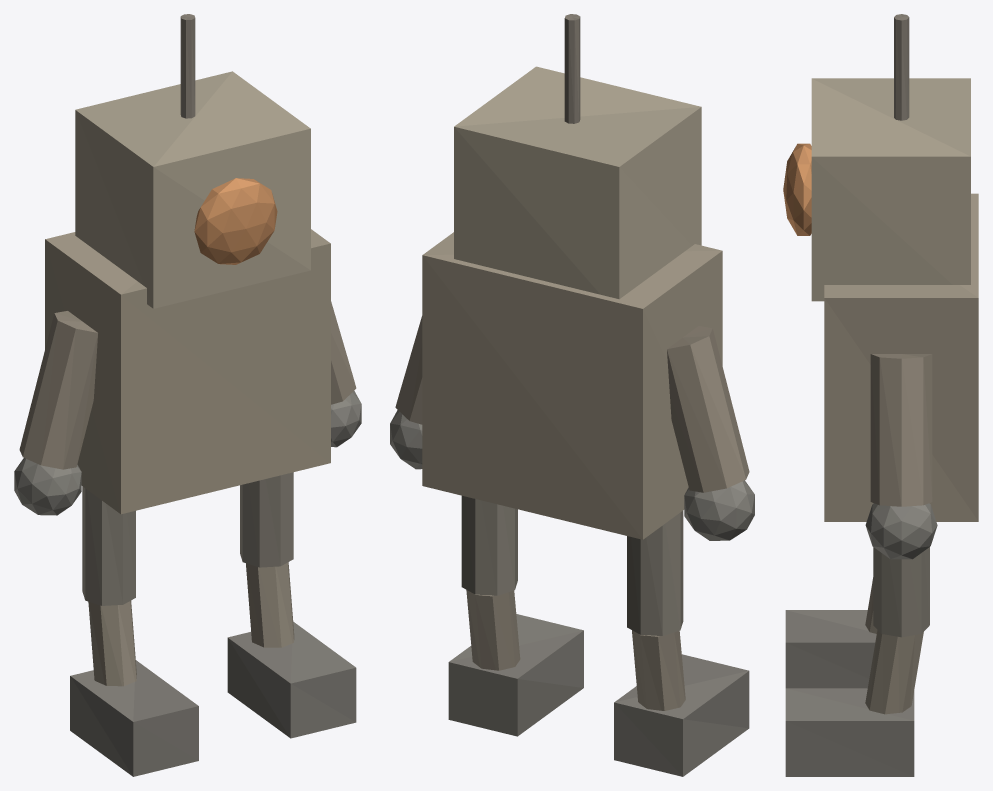
File: one_eye.glb
3 renders of one model, left to right at view 1: azimuth 30°, elevation 25°; view 2: azimuth 150°, elevation 25°; view 3: azimuth 270°, elevation 25°, orthographic. The views are drawn at different scales.
Visible parts, largest first — view 1: torso, head, foot_0.18, foot_-0.18, arm_-0.32, lens, upper_leg_-0.18, upper_leg_0.18, lower_leg_0.18, lower_leg_-0.18, hand_-0.32, antenna (+2 smaller); view 2: torso, head, foot_0.18, foot_-0.18, arm_-0.32, upper_leg_-0.18, upper_leg_0.18, lower_leg_0.18, lower_leg_-0.18, hand_-0.32, antenna, arm_0.32 (+1 smaller); view 3: head, torso, foot_0.18, arm_0.32, foot_-0.18, upper_leg_0.18, lower_leg_0.18, hand_0.32, lens, antenna.
Boxes of the visible parts, x1=… form: torso: x1=45, y1=229, x2=330, y2=514; head: x1=75, y1=71, x2=310, y2=308; foot_0.18: x1=227, y1=622, x2=356, y2=738; foot_-0.18: x1=70, y1=660, x2=198, y2=776; arm_-0.32: x1=19, y1=311, x2=97, y2=469; lens: x1=194, y1=178, x2=277, y2=264; upper_leg_-0.18: x1=82, y1=486, x2=135, y2=605; upper_leg_0.18: x1=240, y1=472, x2=293, y2=567; lower_leg_0.18: x1=246, y1=562, x2=294, y2=647; lower_leg_-0.18: x1=88, y1=600, x2=136, y2=686; hand_-0.32: x1=14, y1=458, x2=81, y2=515; antenna: x1=180, y1=14, x2=195, y2=118; torso: x1=422, y1=232, x2=722, y2=539; head: x1=454, y1=66, x2=701, y2=299; foot_0.18: x1=448, y1=614, x2=583, y2=736; foot_-0.18: x1=614, y1=654, x2=749, y2=776; arm_-0.32: x1=667, y1=326, x2=749, y2=492; upper_leg_-0.18: x1=627, y1=510, x2=683, y2=635; upper_leg_0.18: x1=461, y1=495, x2=517, y2=595; lower_leg_0.18: x1=466, y1=590, x2=520, y2=670; lower_leg_-0.18: x1=632, y1=630, x2=685, y2=710; hand_-0.32: x1=684, y1=480, x2=754, y2=540; antenna: x1=564, y1=14, x2=580, y2=123; arm_0.32: x1=395, y1=316, x2=422, y2=424; head: x1=811, y1=78, x2=970, y2=301; torso: x1=824, y1=193, x2=978, y2=521; foot_0.18: x1=785, y1=688, x2=914, y2=776; arm_0.32: x1=870, y1=354, x2=932, y2=506; foot_-0.18: x1=785, y1=610, x2=876, y2=688; upper_leg_0.18: x1=873, y1=547, x2=929, y2=637; lower_leg_0.18: x1=865, y1=630, x2=923, y2=714; hand_0.32: x1=865, y1=503, x2=937, y2=559; lens: x1=783, y1=143, x2=811, y2=235; antenna: x1=894, y1=14, x2=909, y2=120.
Bounding box in the file's own units: 0.78 × 1.51 × 0.38.
